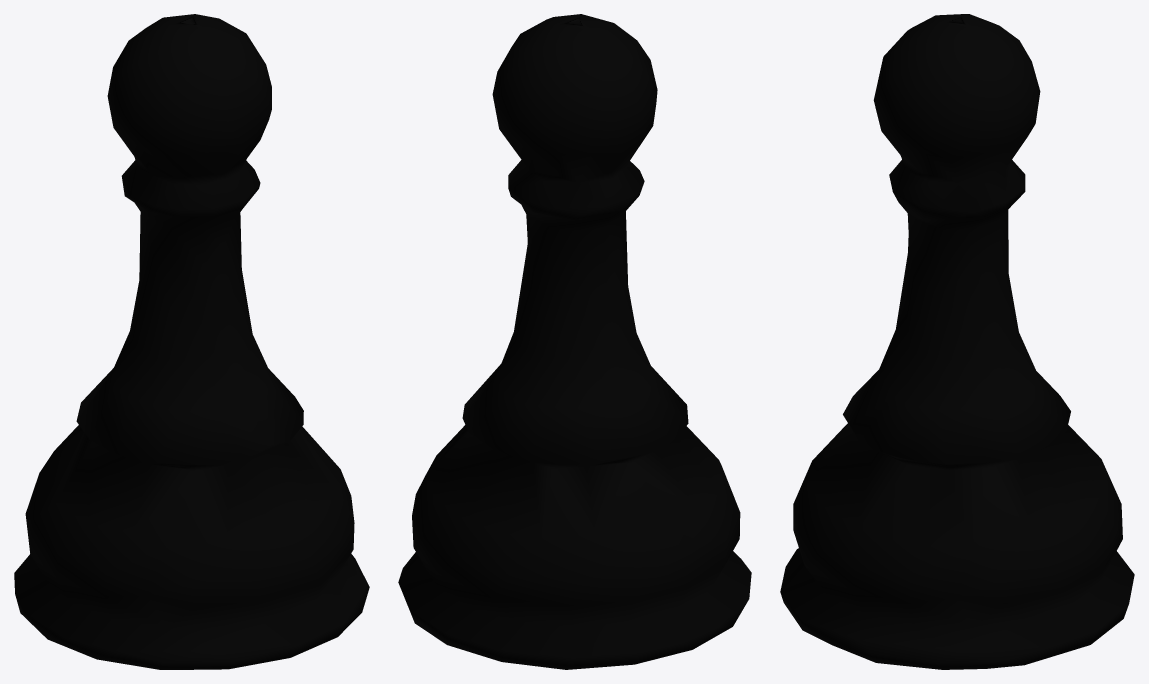
Rendered from ChessPawn.fbx.
3 views of the same model, side by side, from view 1: azimuth 30°, elevation 25°; view 2: azimuth 150°, elevation 25°; view 3: azimuth 270°, elevation 25° (orthographic).
Parts seen in each view (by area): view 1: Pawn; view 2: Pawn; view 3: Pawn.
Part boxes in pixels (x1,y1,x2,y2): Pawn: (14,14,369,669); Pawn: (398,14,751,669); Pawn: (780,14,1134,669).
Size of the model in its own units: 77.88 by 141 by 77.81.
Materials: 1 (1 with a texture image).
